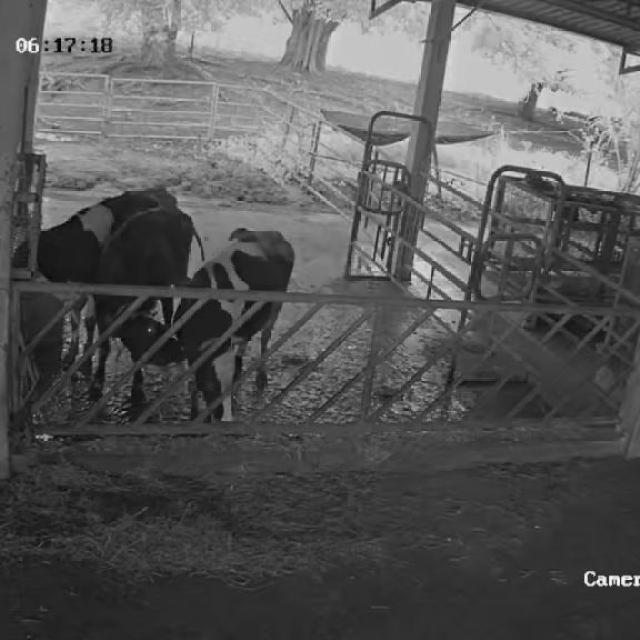drinking: (4, 179, 182, 377)
feeding: (174, 226, 294, 425)
standing: (93, 200, 200, 414)
